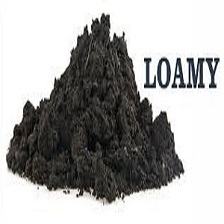loamy_soil: (9, 15, 189, 194)
